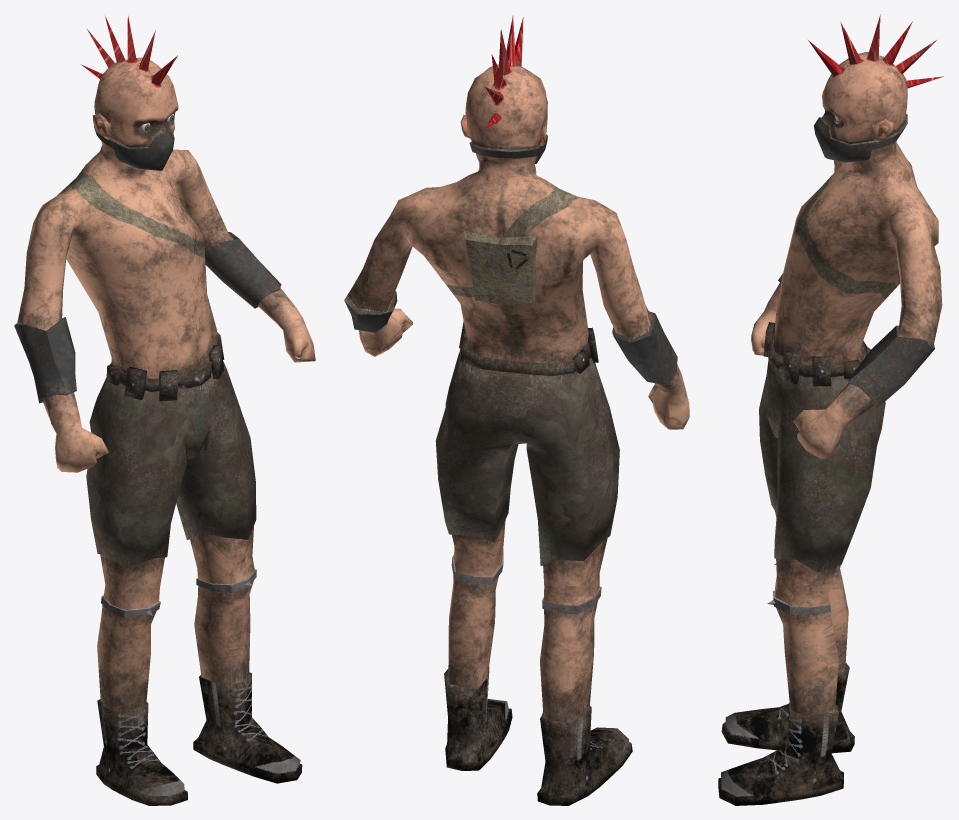
Rendered from Anim_recibirdanyo_1_npc2.0035.obj.
The picture shows the model from 3 angles, left to right: view 1: azimuth 30°, elevation 25°; view 2: azimuth 150°, elevation 25°; view 3: azimuth 270°, elevation 25°; orthographic projection. The views are drawn at different scales.
Parts seen in each view (by area): view 1: polySurface1; view 2: polySurface1; view 3: polySurface1.
Boxes of the visible parts, box(x1,y1,x2,y2) form: polySurface1: box(14, 16, 315, 805); polySurface1: box(344, 15, 689, 805); polySurface1: box(718, 14, 943, 805).
Bounding box in the file's own units: 4.11 × 10.1 × 2.77.
2 materials, 2 textured.
